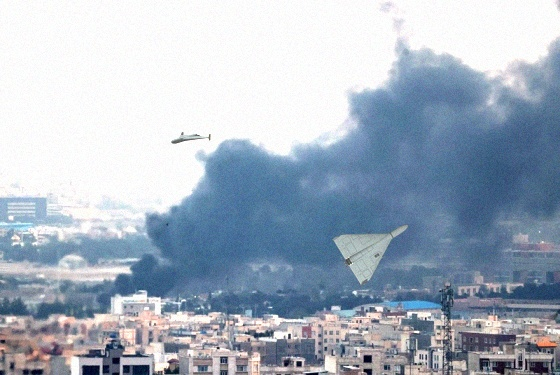shahed: (330, 222, 409, 286), (169, 129, 212, 145)
